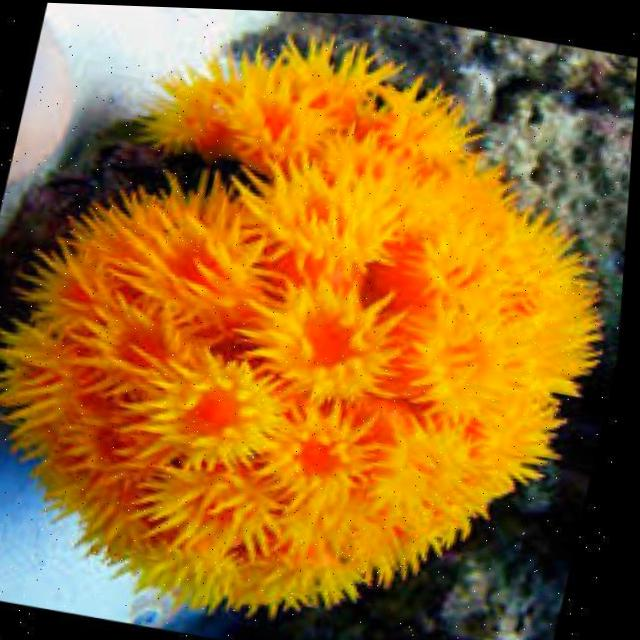Healthy Coral: (3, 31, 585, 615)
